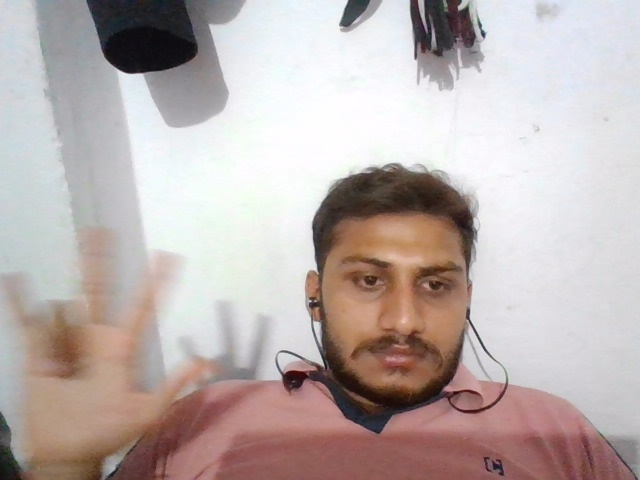ILoveYou: (1, 220, 235, 468)
